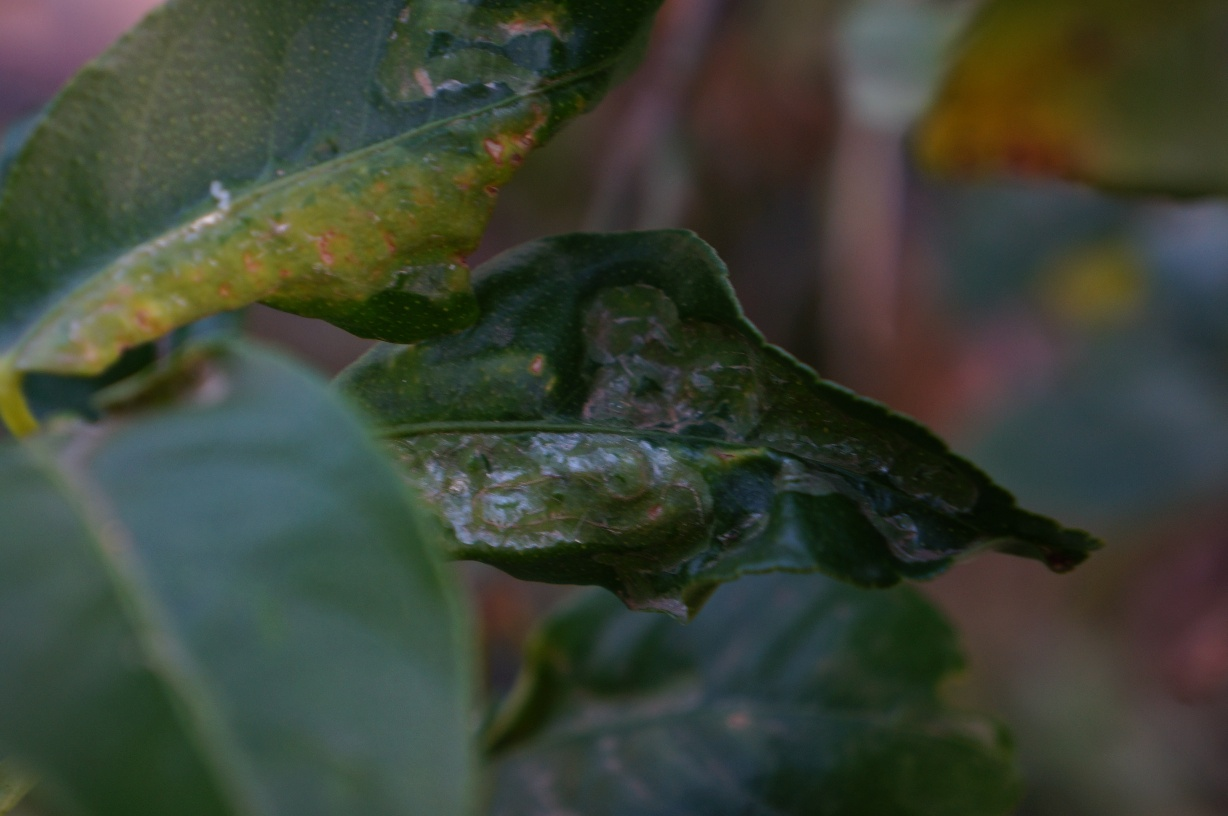damage: (373, 278, 980, 575)
